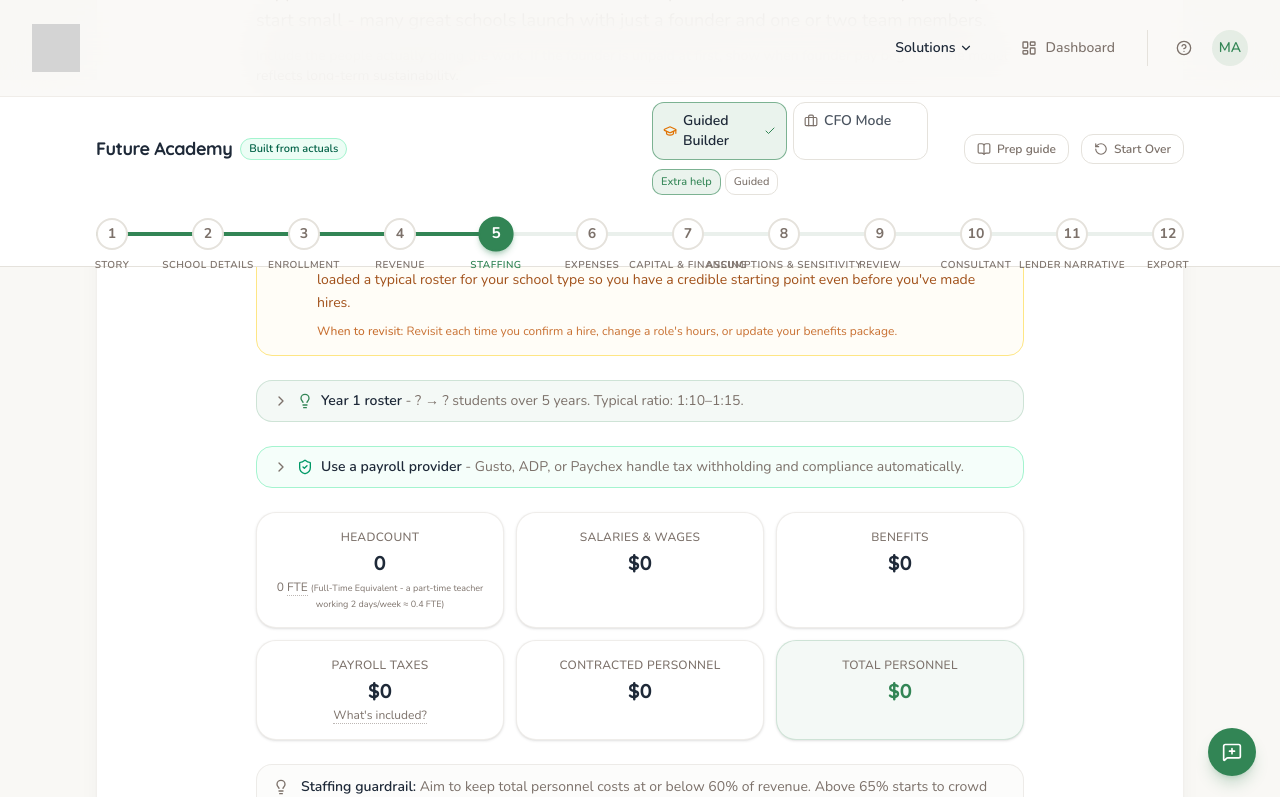
Test: ModelWizardPage — yet_to_launch founder with an operating-school model › step 5 (Staffing) uses 'Year 1 team' / 'Current' framing when the model is operating_school
(page scrolled)
Click the button that starts with "Year 1 roster". click: (508, 400)
box: [273,391,744,410]
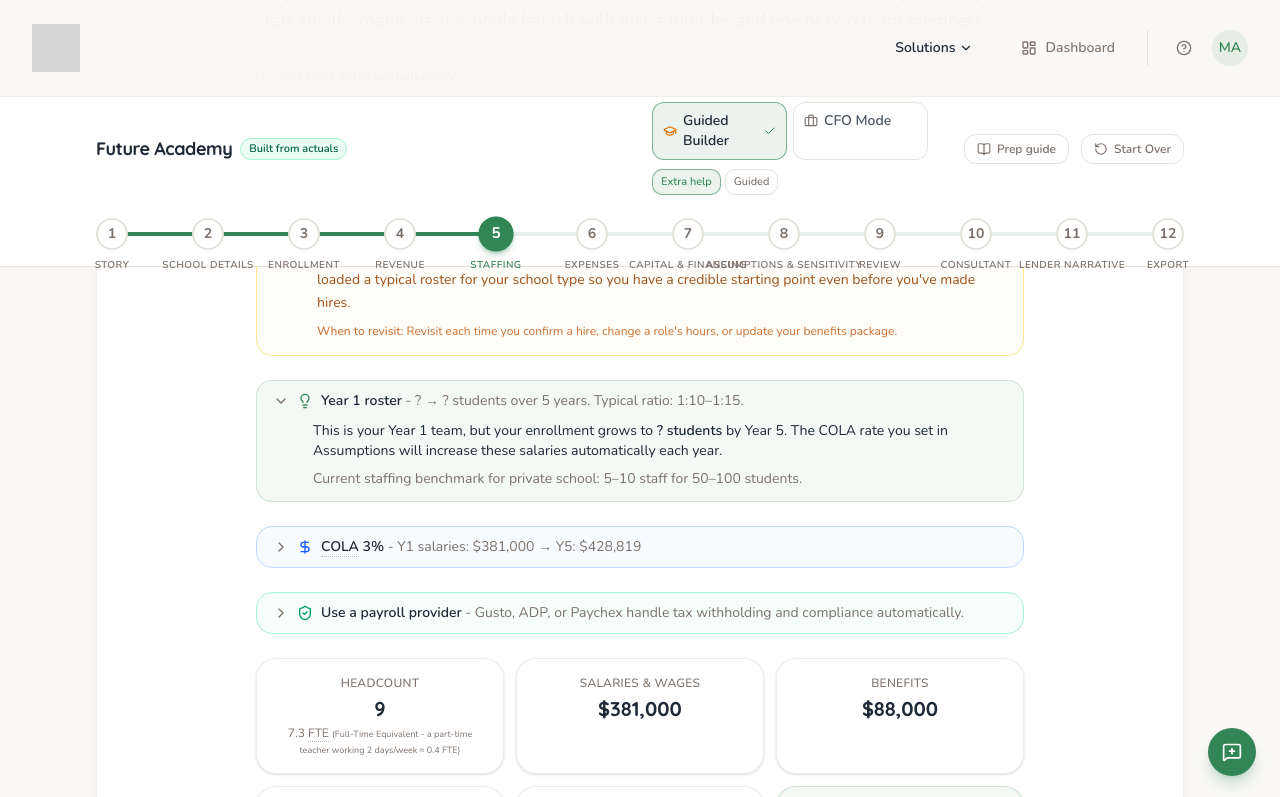
Expected: the text "This is your Year 1 team" is shown, [313,421,657,440]
Expected: the text "Current staffing benchmark" is shown, [313,469,802,488]
